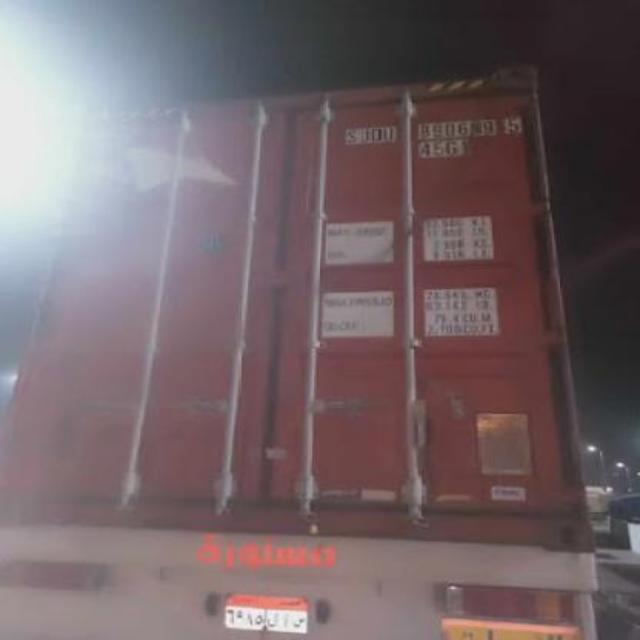0: (444, 118, 456, 142)
5: (506, 114, 524, 136)
6: (456, 118, 468, 140)
8: (468, 118, 482, 138), (418, 117, 428, 143)
9: (430, 117, 442, 141), (482, 115, 494, 138)
D: (370, 124, 380, 146)
S: (344, 120, 358, 146)
U: (380, 121, 396, 142), (358, 124, 370, 146)
